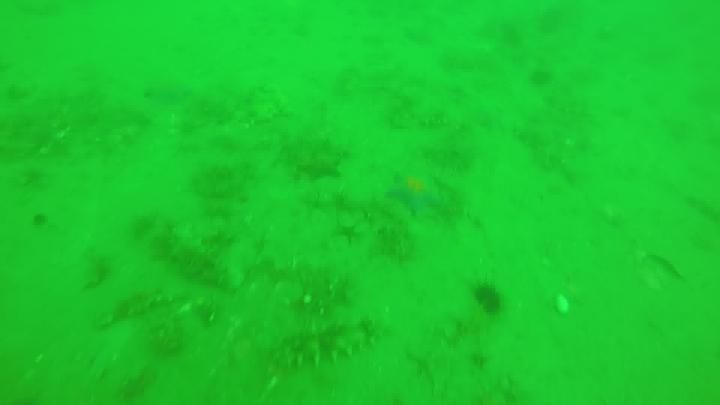echinus: (471, 285, 504, 311)
holothurian: (154, 227, 242, 290), (276, 316, 367, 371)
scallop: (146, 81, 197, 111), (556, 295, 571, 318)
starfish: (387, 169, 439, 221), (299, 156, 345, 179)
